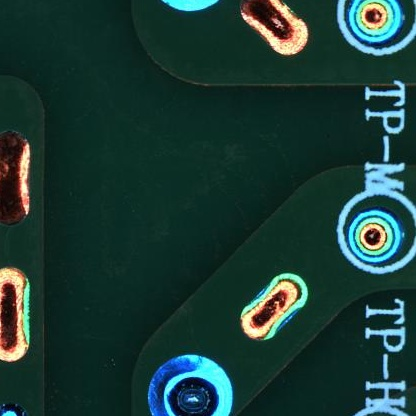spot: (146, 354, 233, 416), (348, 209, 402, 264), (343, 1, 405, 46)
